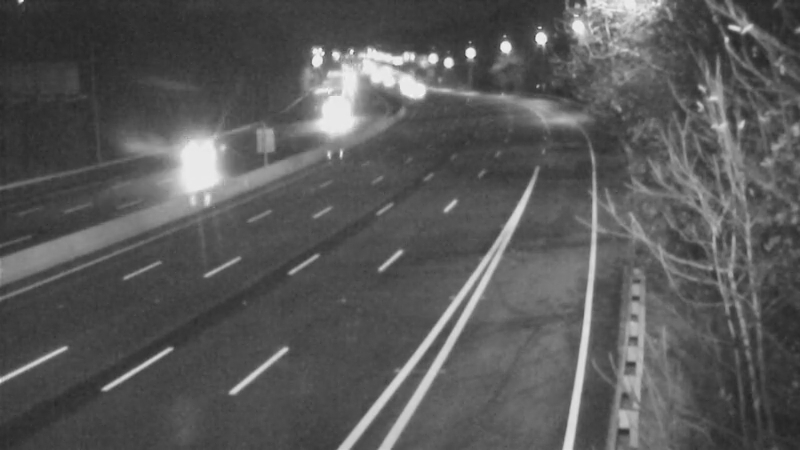vehicle: (162, 114, 242, 194), (388, 67, 438, 117), (312, 90, 362, 140)
